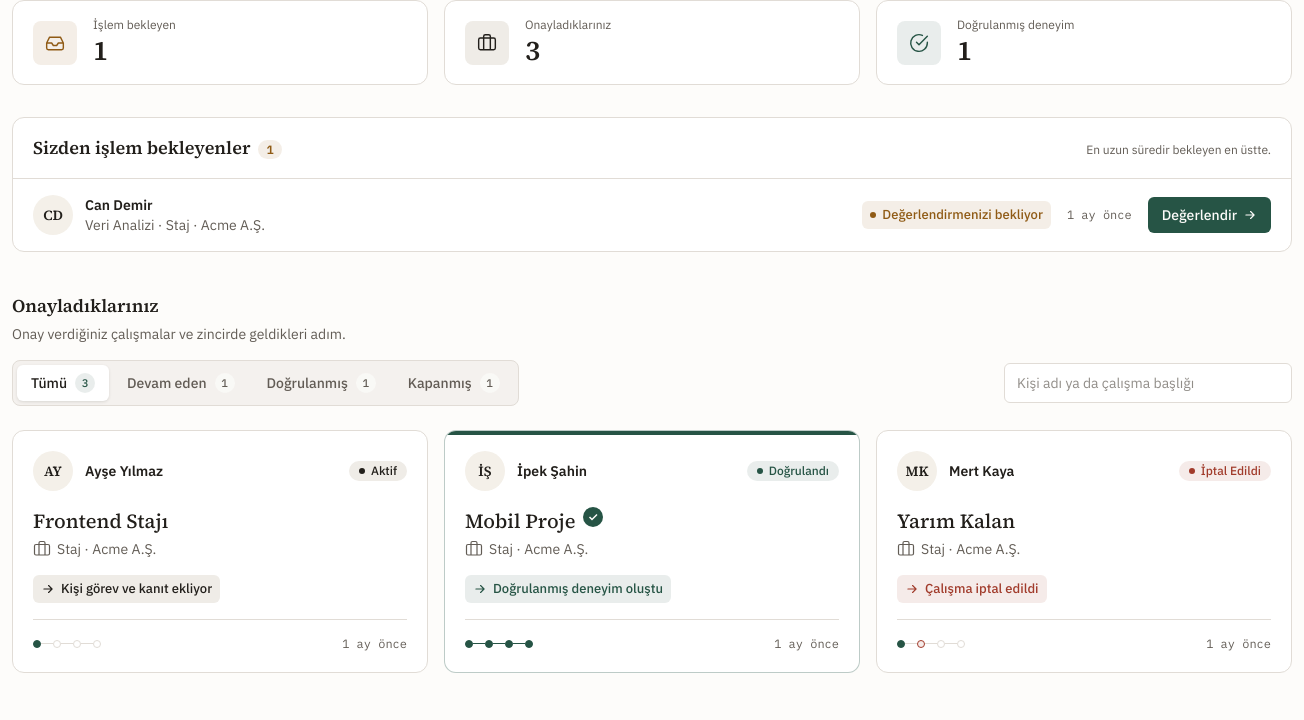
Test: ReviewView (kurum/kuruluş çalışma listesi) › sekme, onaylanan çalışmaları duruma göre süzer
The image size is (1304, 720).
Expected: the number of links with test id "review-approved-card" is 3, 12,430 -> 428,672; 444,430 -> 860,672; 876,430 -> 1292,672
Click the tab "Doğrulanmış 1": click(321, 383) 252,365 -> 390,401
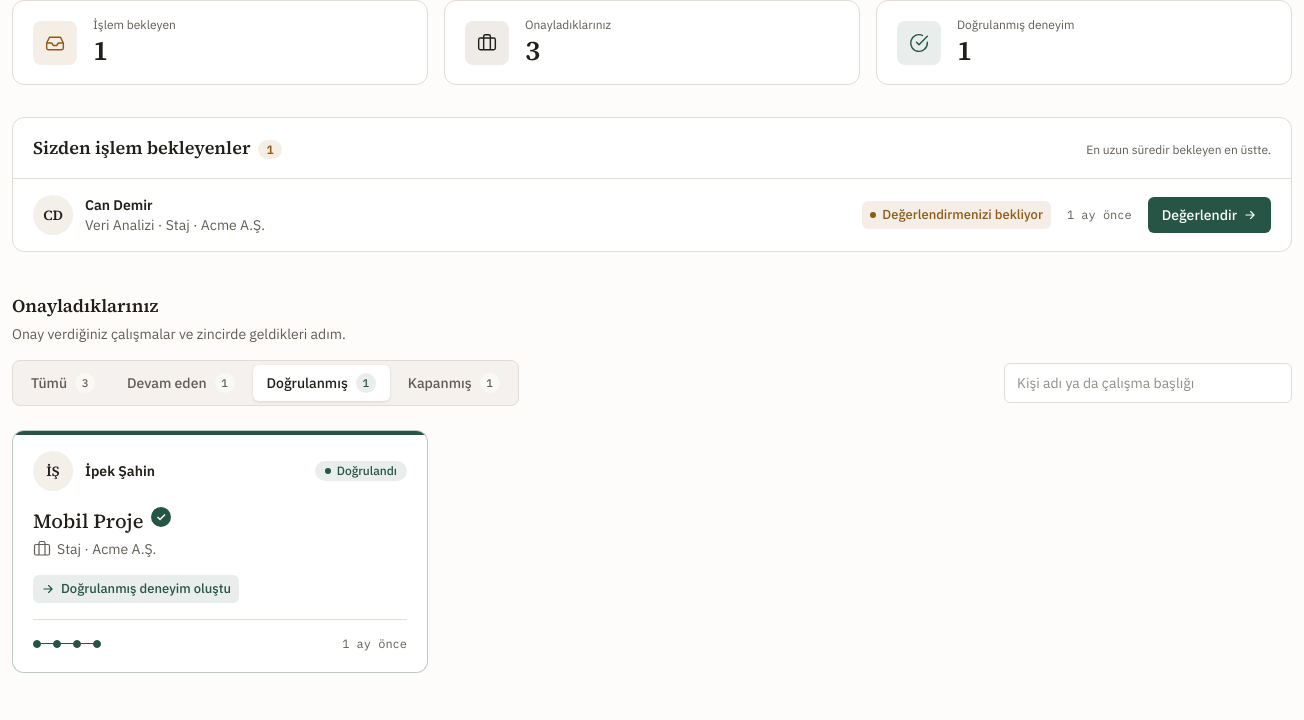
Expected: the text "İpek Şahin" is shown, 85,461 -> 155,481
Expected: the number of links with test id "review-approved-card" is 1, 12,430 -> 428,672
Click the tab "Kapanmış 1": click(454, 383) 394,365 -> 514,401
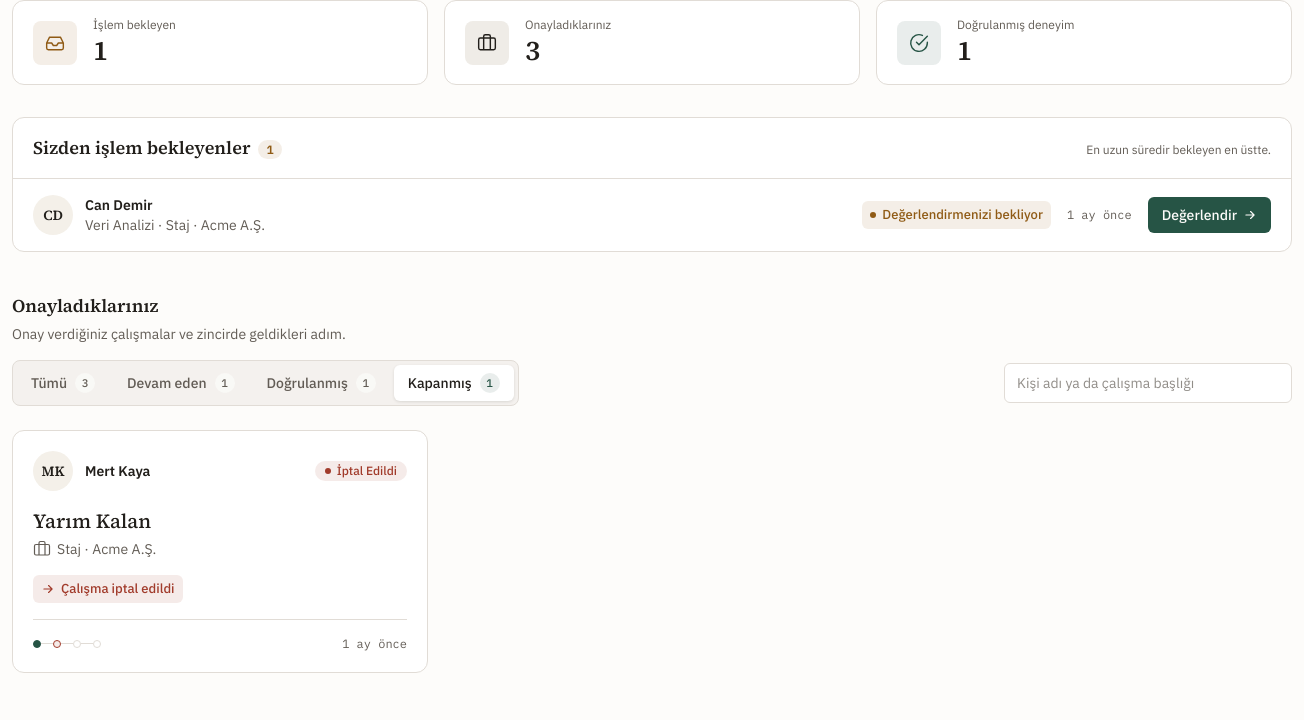
Expected: the text "Mert Kaya" is shown, 85,461 -> 150,481
